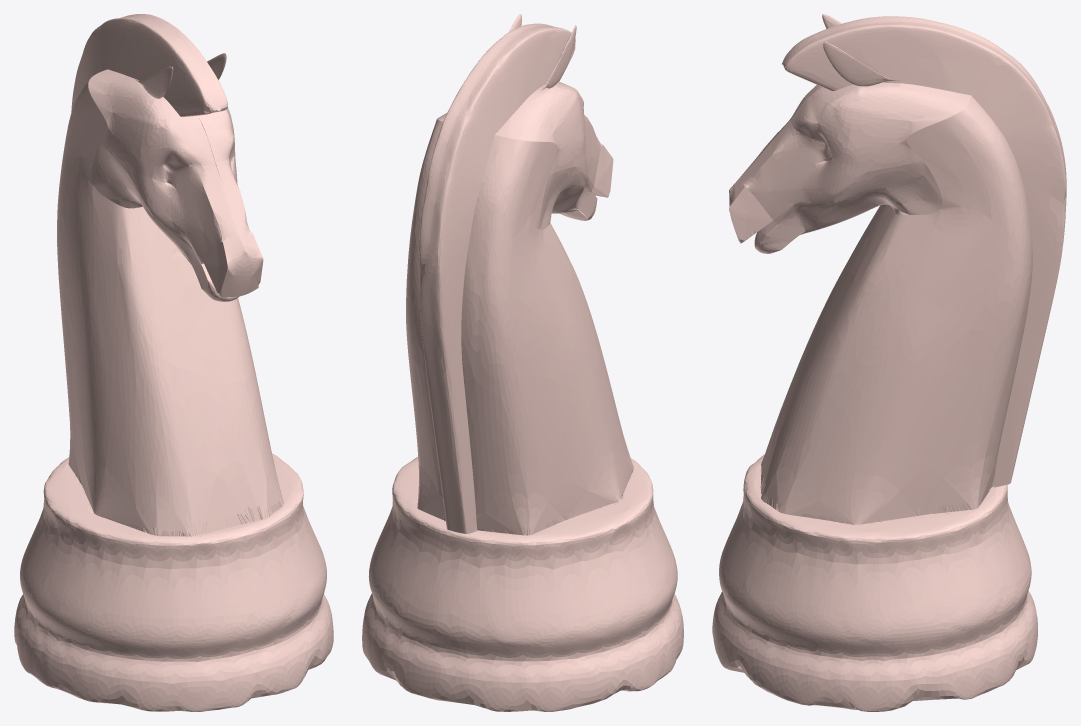
Rendered from knight.fbx.
The picture shows the model from 3 angles, left to right: view 1: azimuth 30°, elevation 25°; view 2: azimuth 150°, elevation 25°; view 3: azimuth 270°, elevation 25°; orthographic projection. The views are drawn at different scales.
Visible parts, largest first — view 1: Cube.002; view 2: Cube.002; view 3: Cube.002.
Part boxes in pixels (left/top/right/bottom): Cube.002: left=14, top=14, right=333, bottom=711; Cube.002: left=362, top=14, right=683, bottom=711; Cube.002: left=712, top=14, right=1066, bottom=711.
Bounding box in the file's own units: 90.05 × 190 × 97.71.
